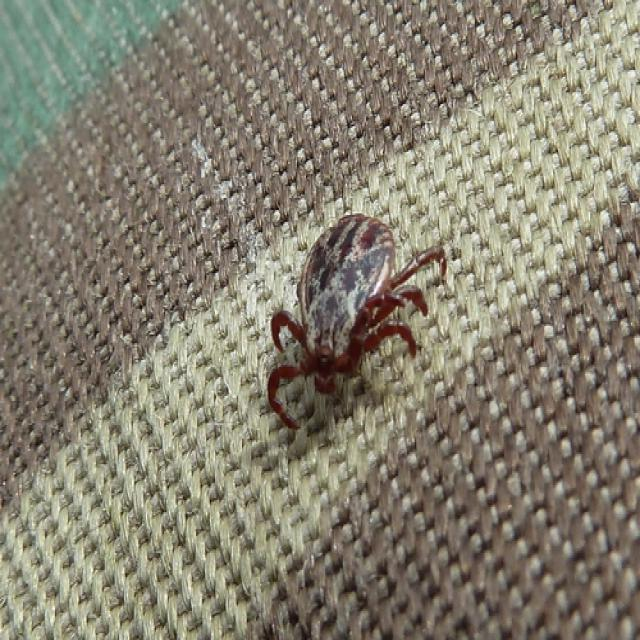Dermacentor Reticulatus-M: (266, 213, 445, 432)
